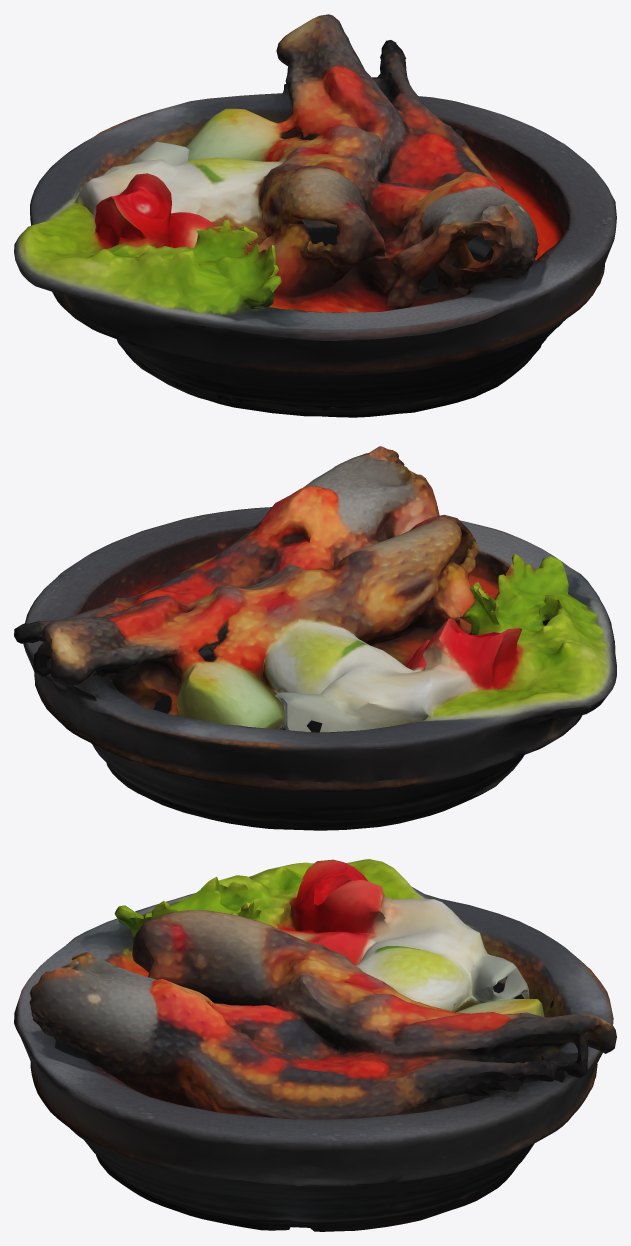
File: Pecel-Lele.glb
3 renders of one model, top to bottom at view 1: azimuth 30°, elevation 25°; view 2: azimuth 150°, elevation 25°; view 3: azimuth 270°, elevation 25°, orthographic. The views are drawn at different scales.
Visible parts, largest first — view 1: world_0, Cylinder; view 2: world_0, Cylinder; view 3: world_0, Cylinder.
Part boxes in pixels (x1,y1,x2,y2): world_0: (14,14,616,417); Cylinder: (236,231,541,414); world_0: (14,446,616,830); Cylinder: (141,657,326,827); world_0: (14,859,616,1231); Cylinder: (105,1098,514,1227).
Size of the model in its own units: 0.8194 by 0.2829 by 0.7694.
Materials: 2 (1 with a texture image).
